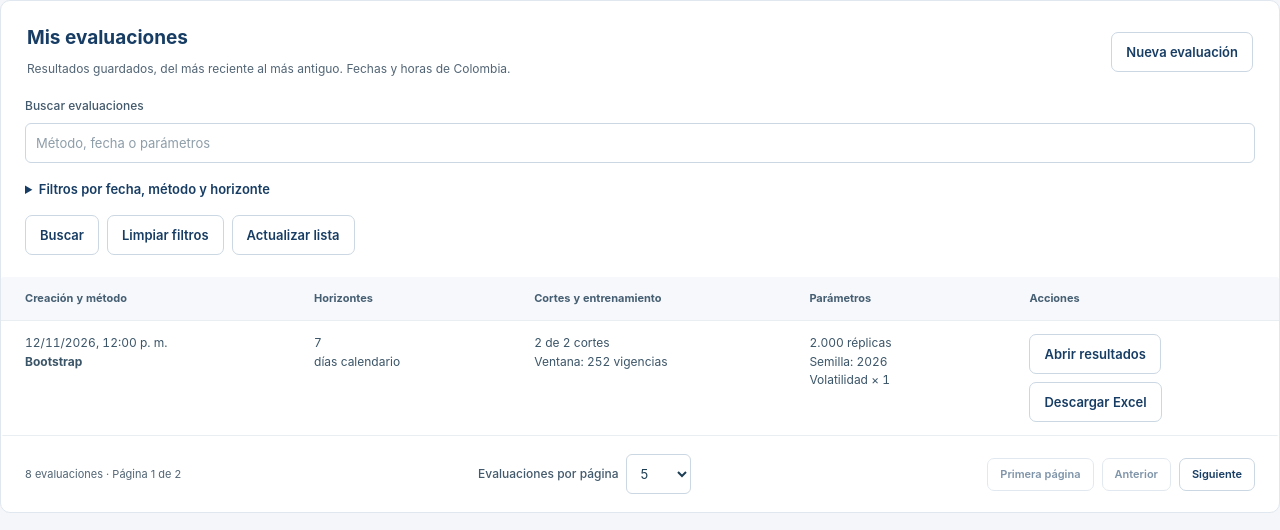
Test: descarta una respuesta antigua cuando el usuario cambia la búsqueda
Expected: the text "8 evaluaciones · Página 1 de 2" is shown, [25,466,181,483]
Click the button "Siguiente": (1217, 474) [1179,458,1255,491]
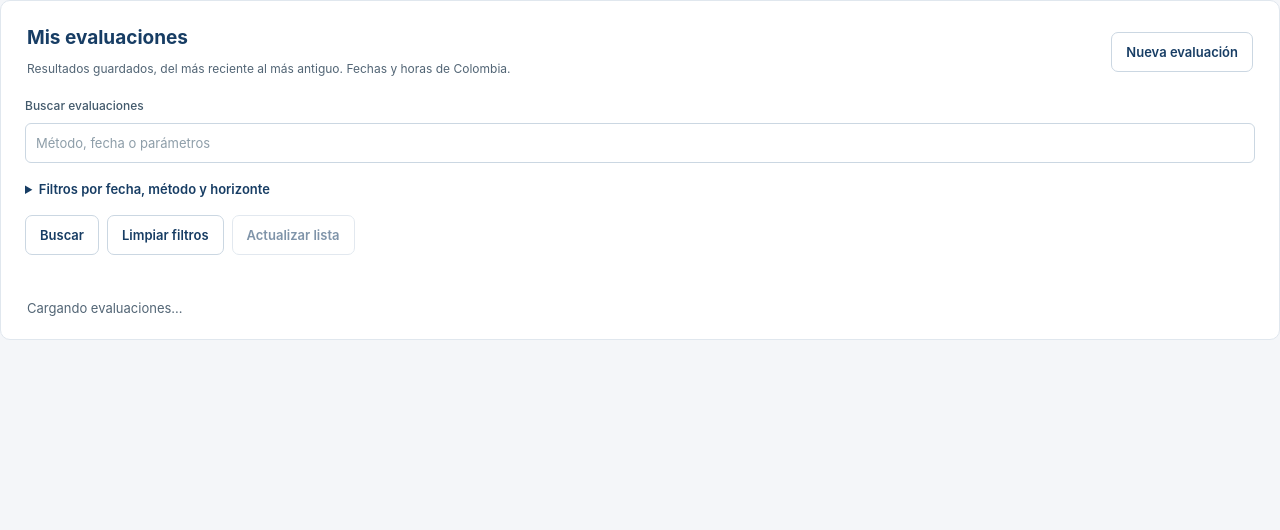
In the search field labelled "Buscar evaluaciones": (640, 143) [25,123,1255,163], type "sin coincidencias"
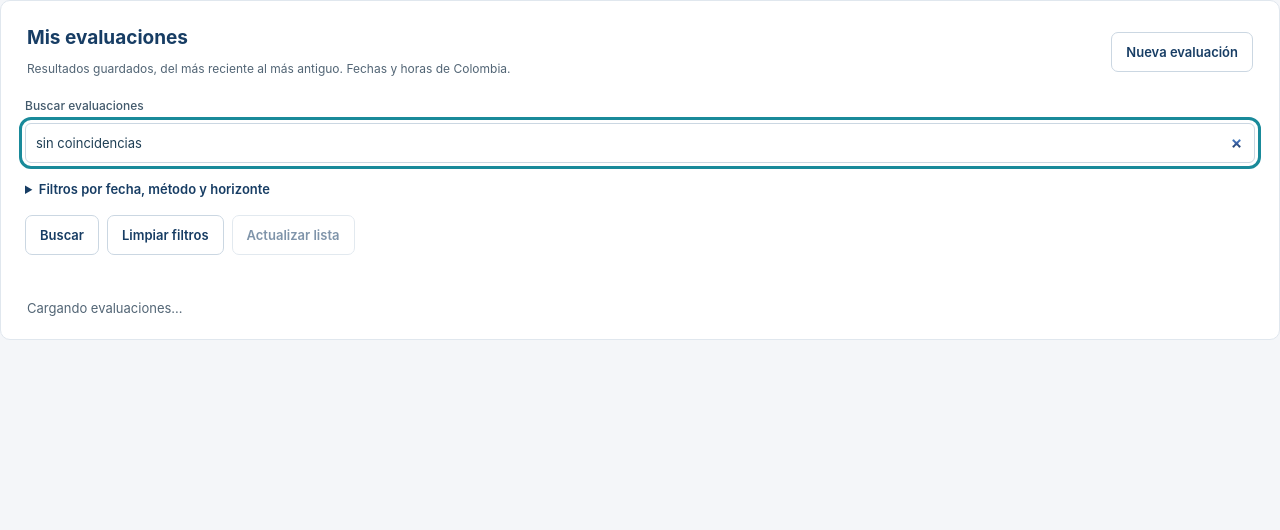
Click the button "Buscar": (62, 235) [25,215,99,255]
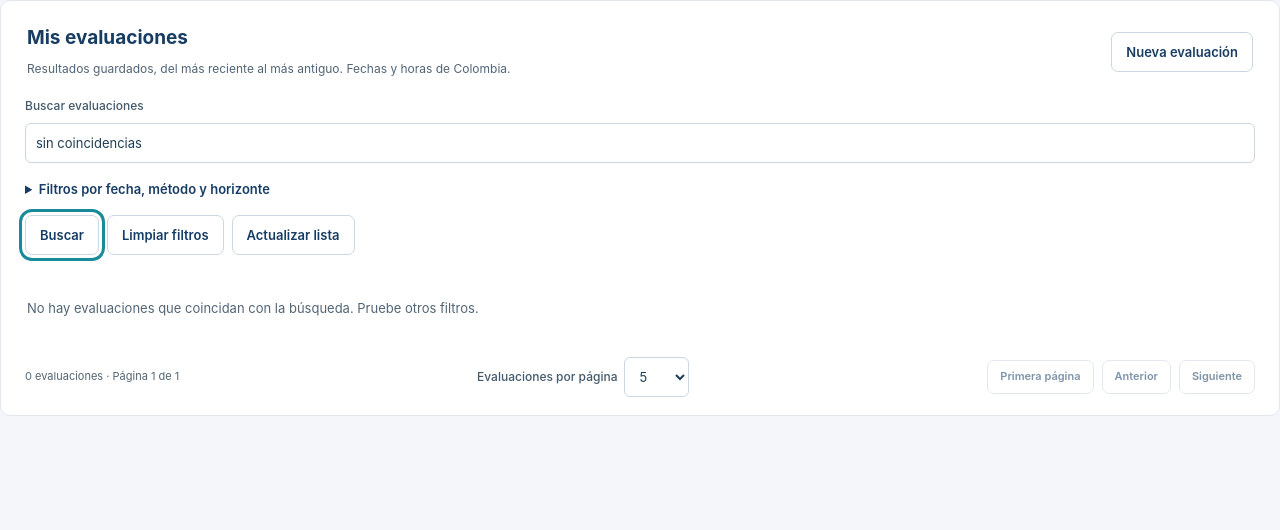
Expected: the button "Abrir resultados" is not shown
Expected: the text "No hay evaluaciones que coincidan con la búsqueda. Pruebe otros filtros." is shown, [27,300,479,316]
